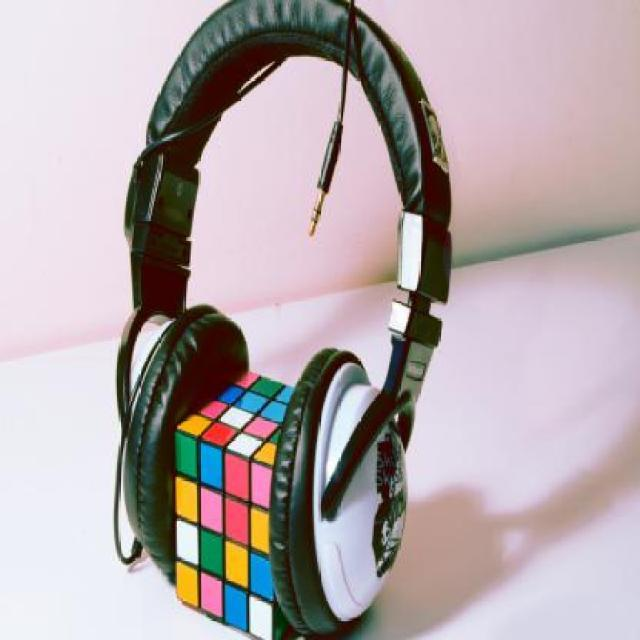earphone: (99, 0, 433, 638)
